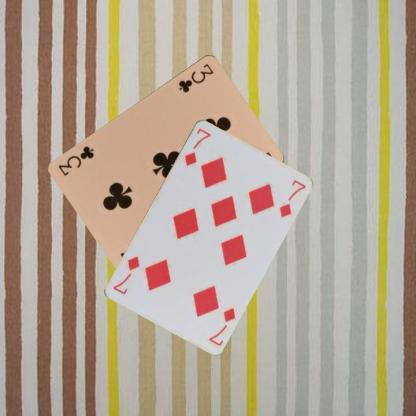3c: (176, 61, 215, 94)
7d: (181, 124, 212, 167), (206, 304, 237, 347)
